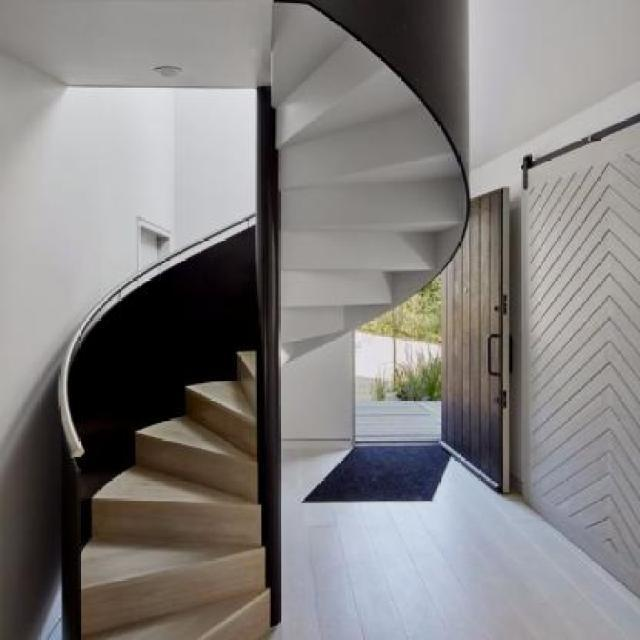stair: (20, 12, 483, 640)
